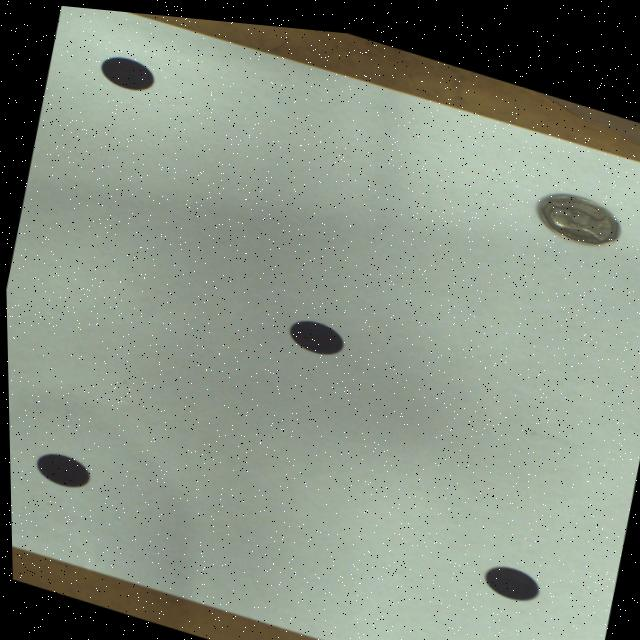head5bath: (536, 181, 619, 232)
space: (34, 451, 88, 485), (288, 313, 342, 347), (101, 53, 154, 87), (482, 556, 536, 588)
